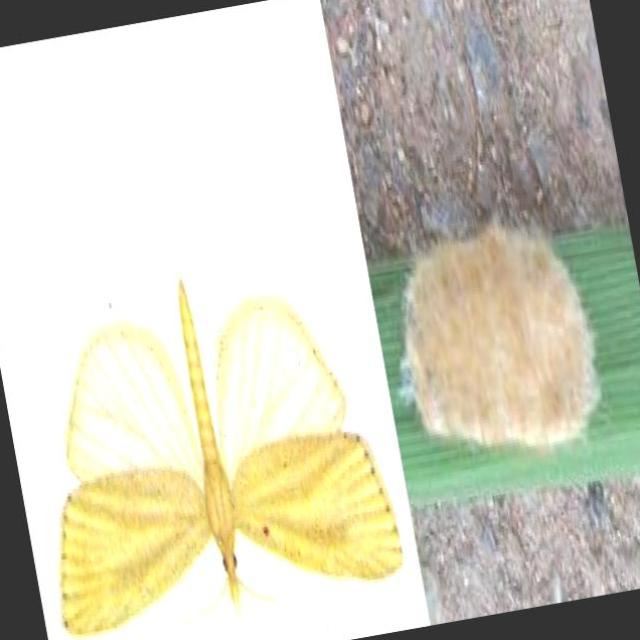stem borer: (62, 294, 403, 636), (401, 225, 599, 449)
